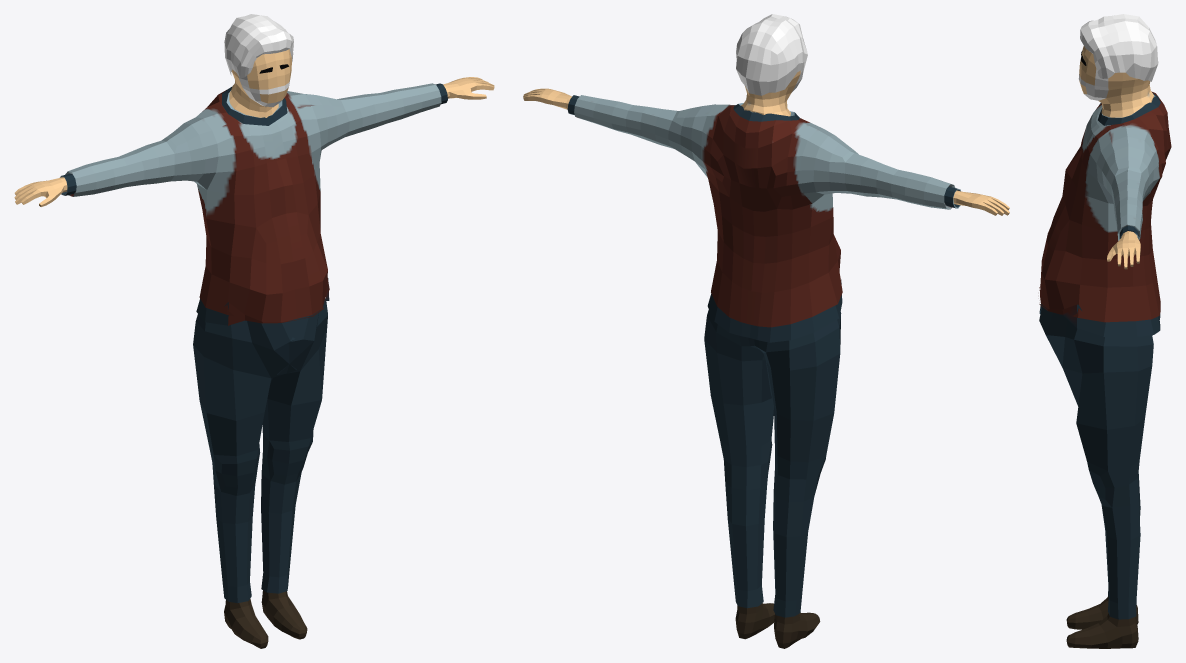
Rendered from AncianoMale.fbx.
3 views of the same model, side by side, from view 1: azimuth 30°, elevation 25°; view 2: azimuth 150°, elevation 25°; view 3: azimuth 270°, elevation 25° (orthographic).
Parts seen in each view (by area): view 1: ManCasual5; view 2: ManCasual5; view 3: ManCasual5.
Part boxes in pixels (box(x1,y1,x2,y2)): ManCasual5: box(14, 14, 494, 648); ManCasual5: box(523, 14, 1009, 648); ManCasual5: box(1039, 14, 1171, 648).
Bounding box in the file's own units: 153 × 186 × 36.23.
1 material, 1 textured.
